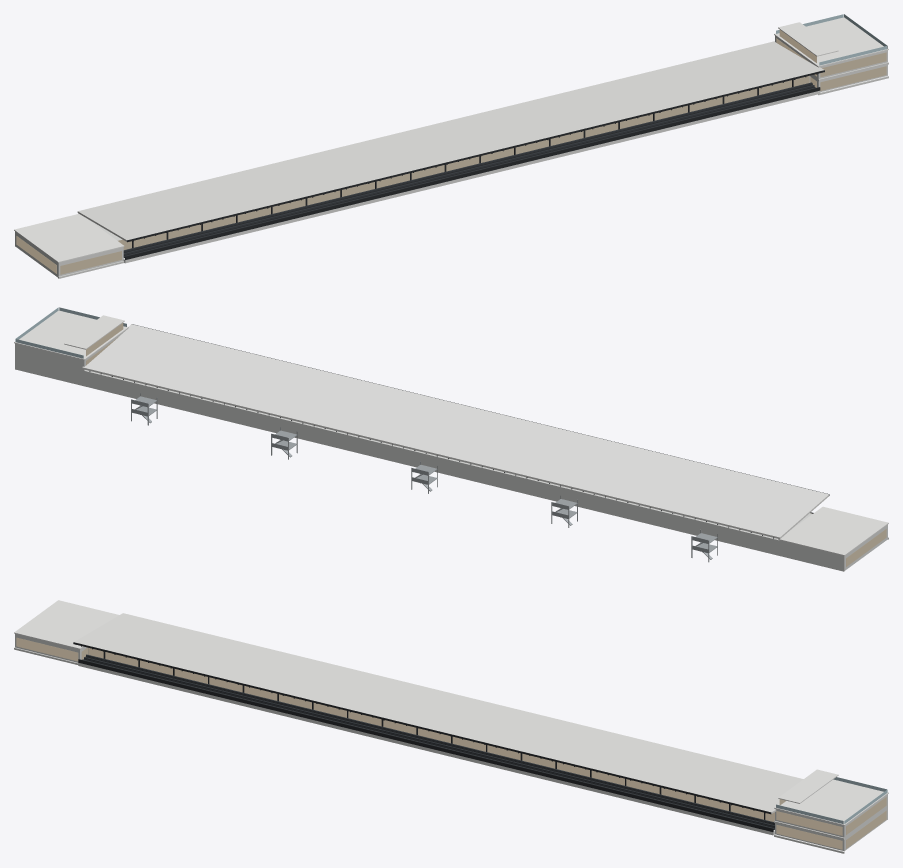
Rendered from bak_pit_upper.glb.
3 renders of one model, top to bottom at view 1: azimuth 30°, elevation 25°; view 2: azimuth 150°, elevation 25°; view 3: azimuth 330°, elevation 25°, orthographic.
Parts seen in each view (by area): view 1: baku-pit-building; view 2: baku-pit-building; view 3: baku-pit-building.
Boxes of the visible parts, bbox=[...] form: baku-pit-building: bbox=[14, 14, 888, 278]; baku-pit-building: bbox=[14, 307, 888, 571]; baku-pit-building: bbox=[14, 600, 888, 853].
Bounding box in the file's own units: 296 × 17.1 × 35.77.
